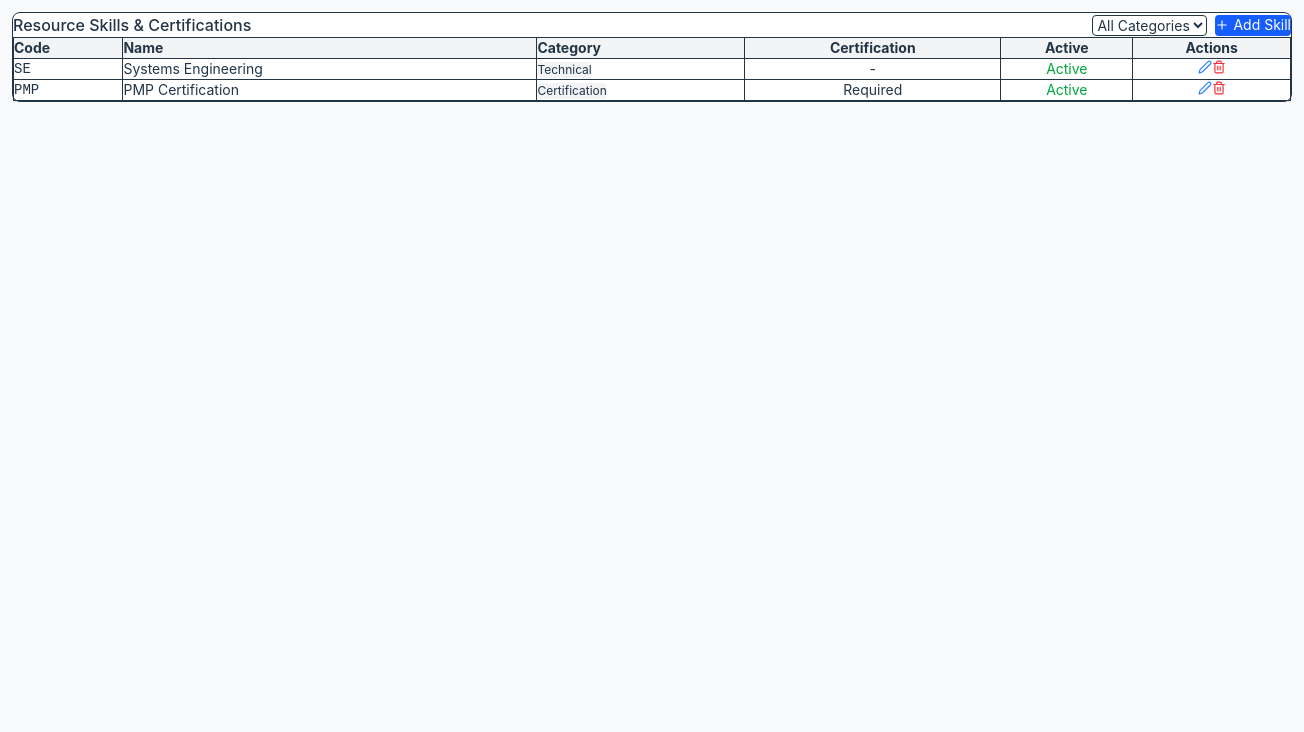
SkillsPanel › shows error toast on save failure
This screenshot has width=1304, height=732.
Click the button "Add Skill" at point(1253, 25), box [1215,14,1291,36]
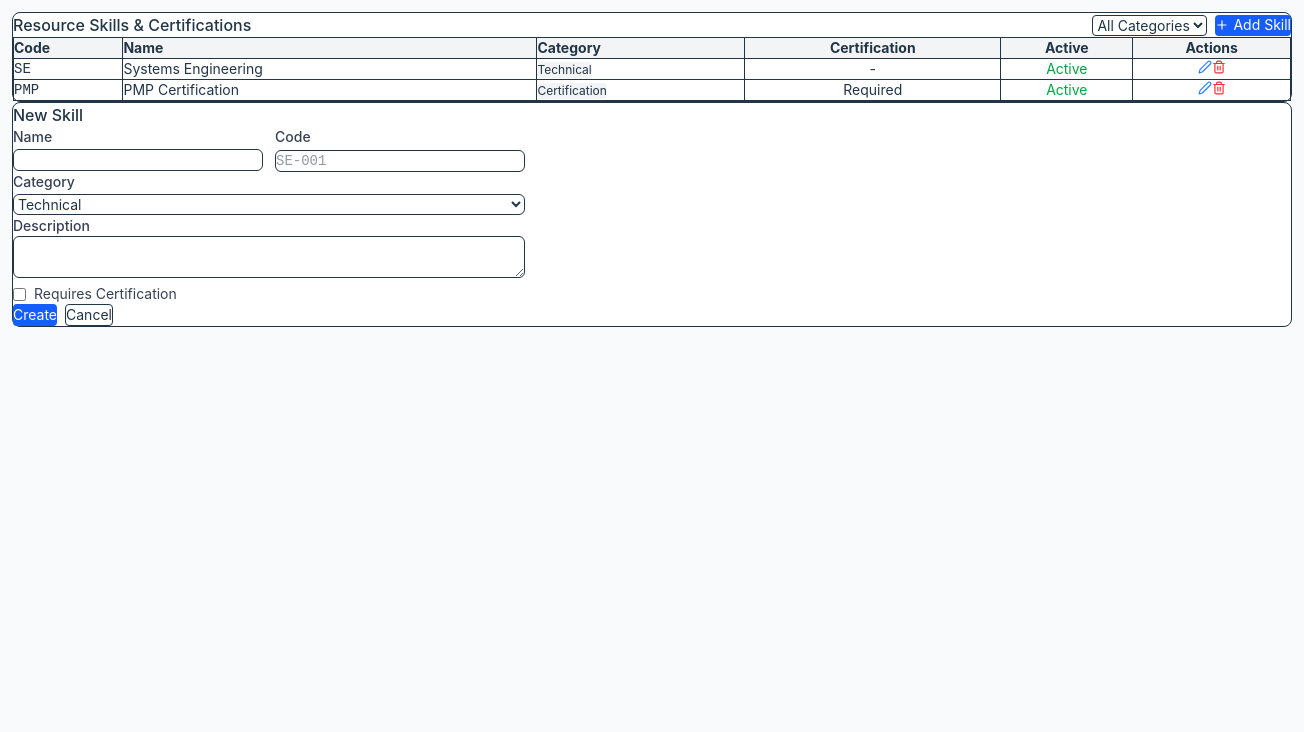
Type "Fail Skill" into the field labelled "Name" at point(138, 160), box [13,149,263,171]
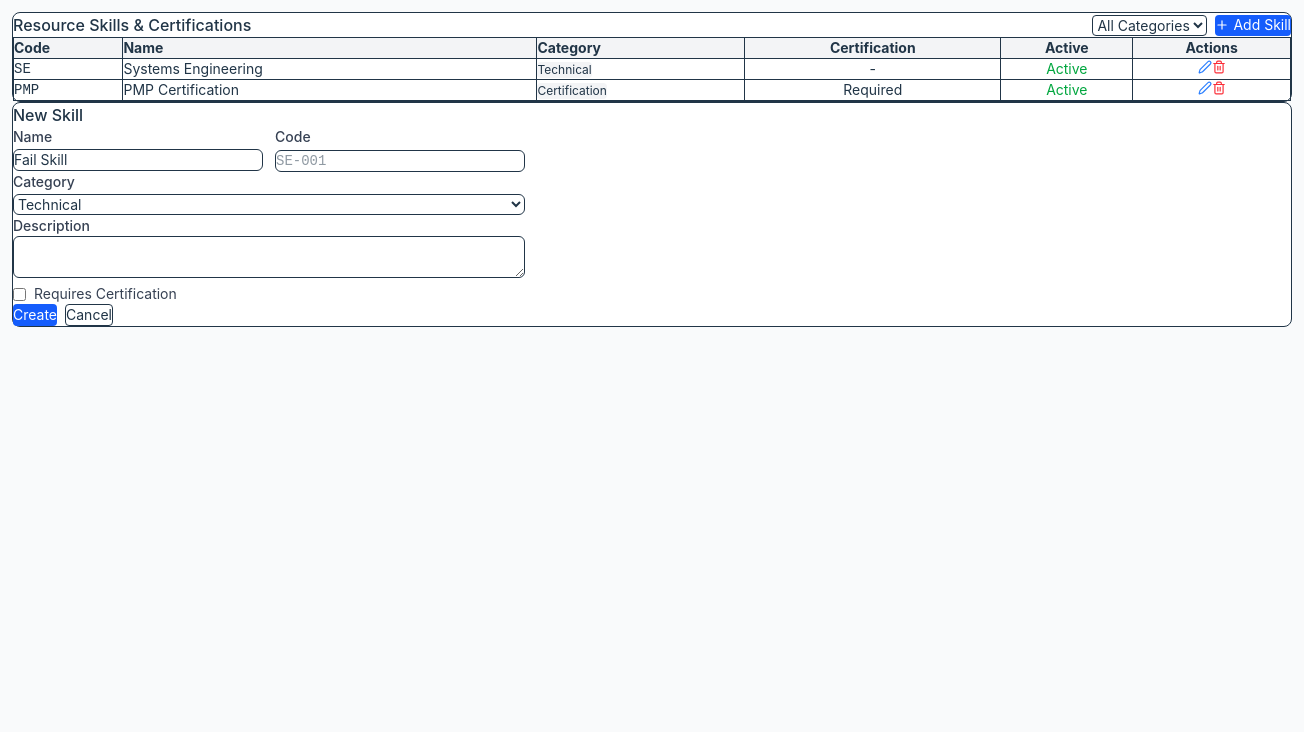
Type "FAIL" into the field labelled "Code" at point(400, 161), box [275,150,525,172]
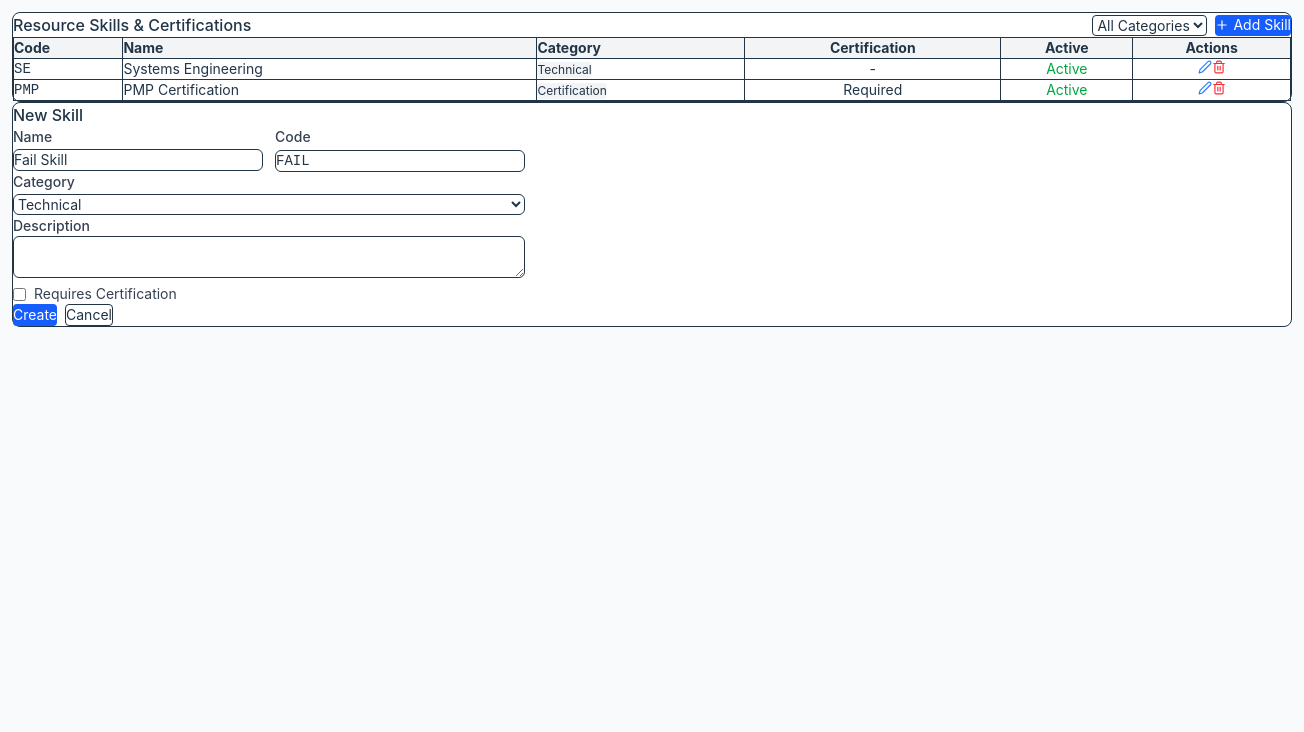
Click the button "Create" at point(35, 315), box [13,304,57,326]
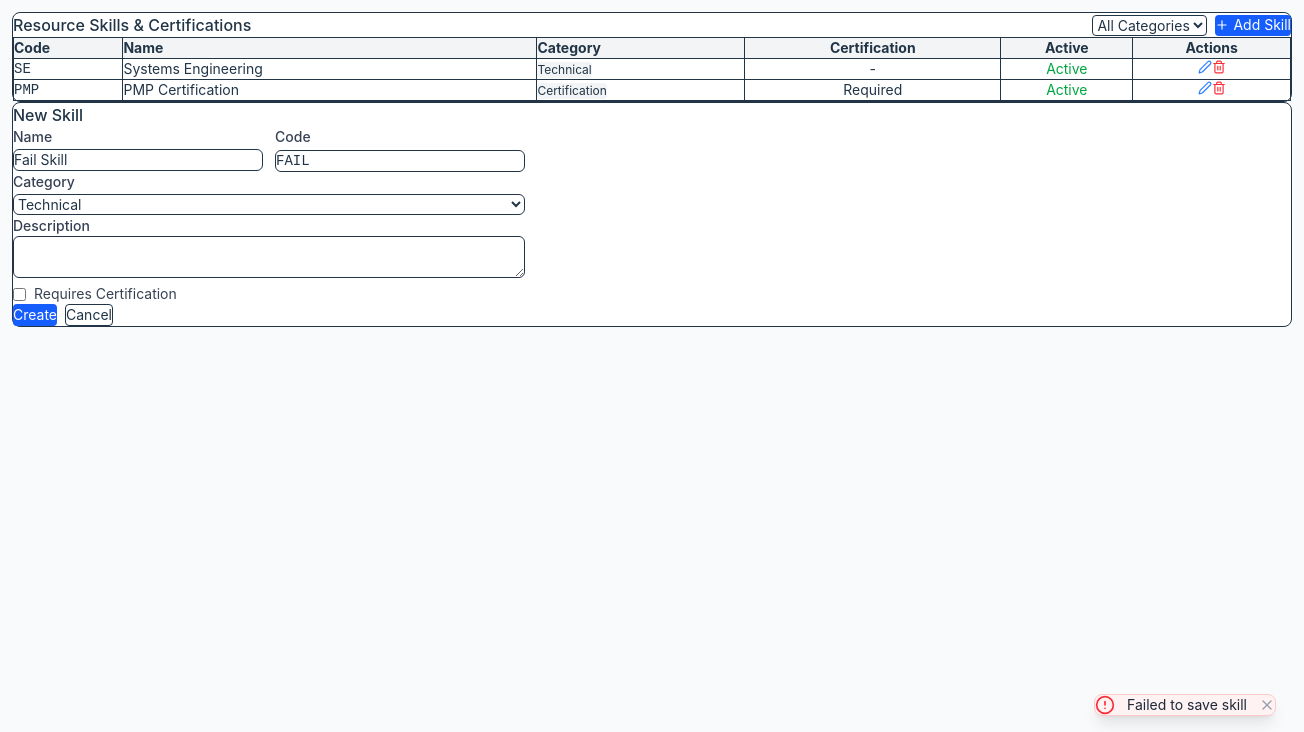
Expected: the text "Failed to save skill" is shown, [1127,695,1247,715]
